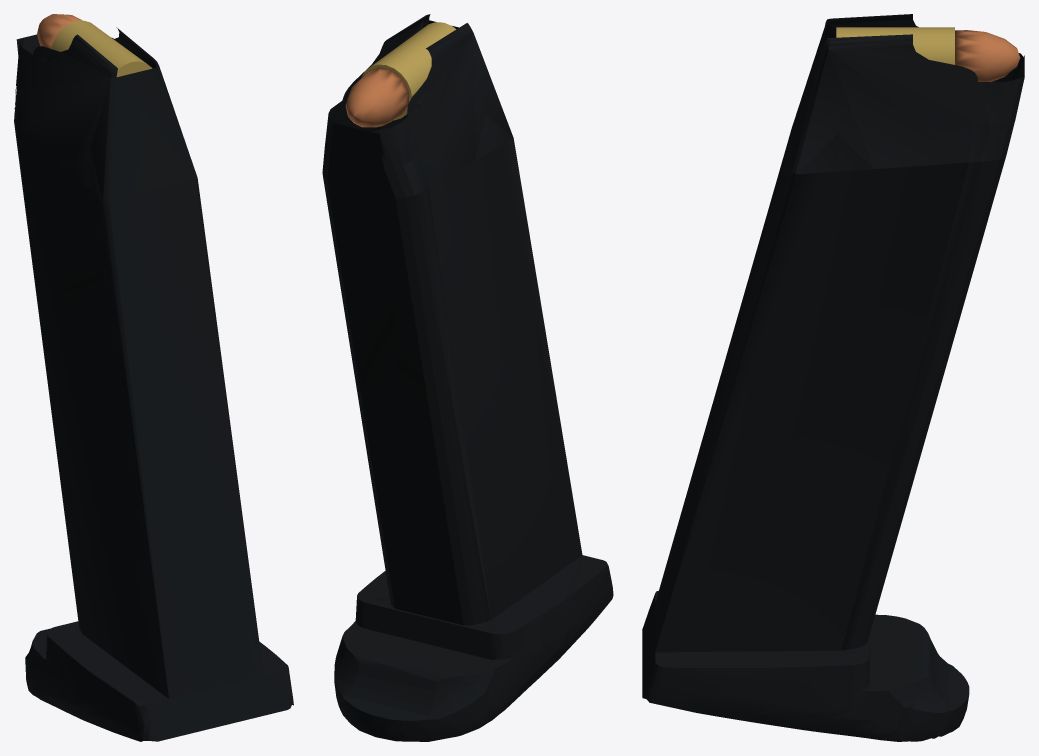
The model's file is hk-compact-magazine-low.glb.
3 renders of one model, left to right at view 1: azimuth 30°, elevation 25°; view 2: azimuth 150°, elevation 25°; view 3: azimuth 270°, elevation 25°, orthographic. The views are drawn at different scales.
Visible parts, largest first — view 1: MagazineBody, MagazineVisibleCartridgeCase, MagazineVisibleCartridgeTip; view 2: MagazineBody, MagazineVisibleCartridgeTip, MagazineVisibleCartridgeCase; view 3: MagazineBody, MagazineVisibleCartridgeTip, MagazineVisibleCartridgeCase.
Part boxes in pixels (x1,y1,x2,y2): MagazineBody: [14, 27, 293, 741]; MagazineVisibleCartridgeCase: [51, 20, 152, 76]; MagazineVisibleCartridgeTip: [37, 14, 82, 48]; MagazineBody: [322, 14, 613, 741]; MagazineVisibleCartridgeTip: [345, 67, 408, 127]; MagazineVisibleCartridgeCase: [361, 22, 456, 120]; MagazineBody: [642, 14, 1024, 741]; MagazineVisibleCartridgeTip: [955, 30, 1020, 81]; MagazineVisibleCartridgeCase: [836, 27, 954, 64].
Size of the model in its own units: 0.0324 by 0.1231 by 0.0617.
